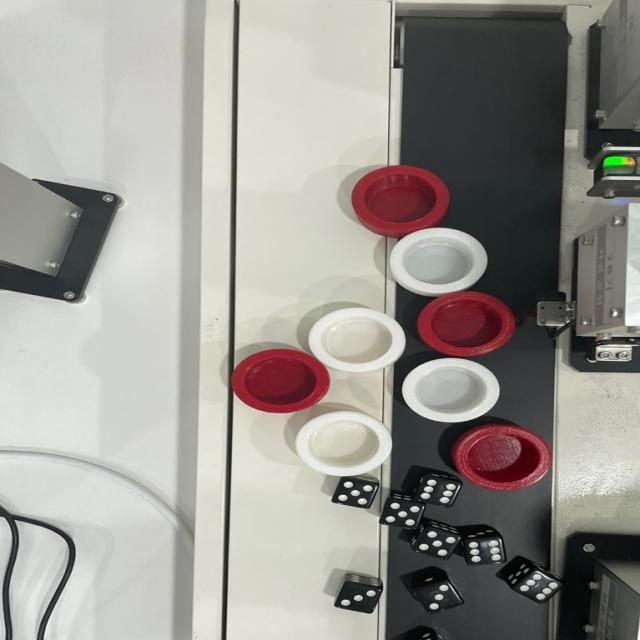DICE3: (335, 585, 381, 612), (418, 585, 460, 611)
DICE5: (380, 501, 422, 531), (416, 529, 457, 558), (333, 481, 375, 508)
DICE6: (516, 571, 560, 605), (465, 537, 507, 566), (420, 479, 460, 504)
RedChip: (349, 160, 450, 225), (229, 349, 313, 413), (460, 429, 554, 485), (417, 297, 511, 350)
WhiteChip: (397, 358, 500, 422), (292, 412, 390, 472), (395, 233, 487, 291), (324, 308, 407, 371)
